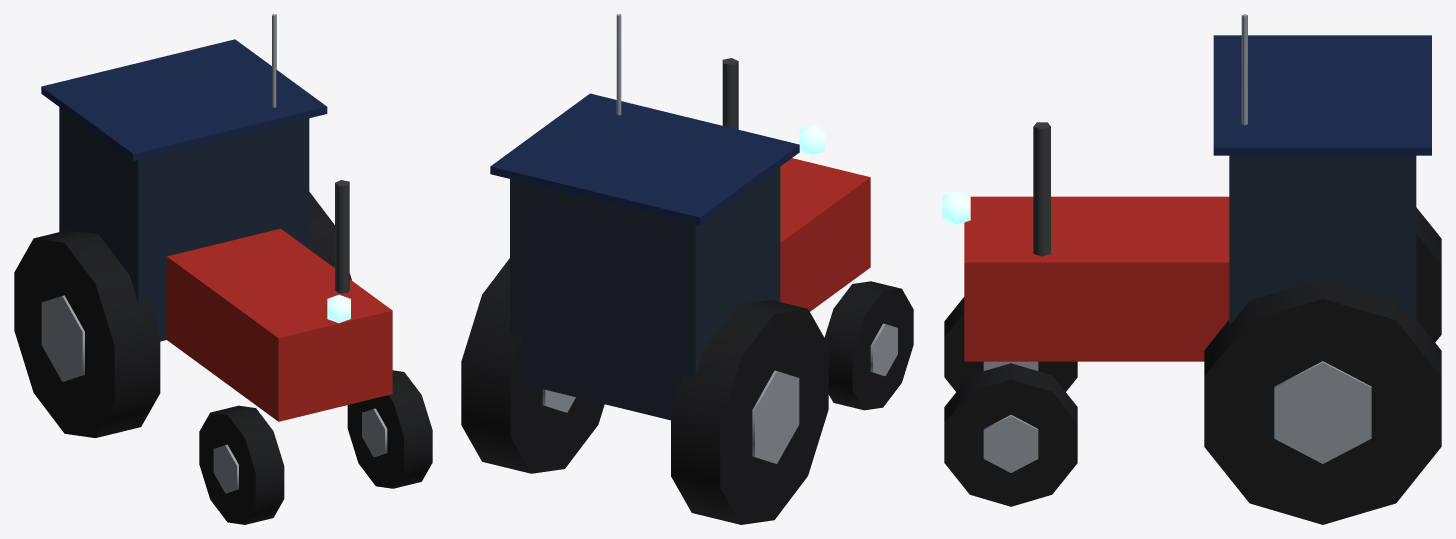
Rendered from veh_ground_tractor_a09.glb.
3 renders of one model, left to right at view 1: azimuth 30°, elevation 25°; view 2: azimuth 150°, elevation 25°; view 3: azimuth 270°, elevation 25°, orthographic. The views are drawn at different scales.
Parts seen in each view (by area): view 1: body, wheel_0, front_wheel_0, front_wheel_1, wheel_1; view 2: body, wheel_0, wheel_1, front_wheel_0; view 3: body, wheel_1, front_wheel_1, front_wheel_0, wheel_0.
Boxes of the visible parts, x1=… form: body: x1=41, y1=14, x2=392, y2=421; wheel_0: x1=14, y1=230, x2=160, y2=437; front_wheel_0: x1=199, y1=405, x2=284, y2=524; front_wheel_1: x1=347, y1=370, x2=432, y2=488; wheel_1: x1=309, y1=192, x2=351, y2=280; body: x1=490, y1=14, x2=870, y2=420; wheel_0: x1=671, y1=300, x2=828, y2=524; wheel_1: x1=461, y1=258, x2=604, y2=473; front_wheel_0: x1=824, y1=281, x2=913, y2=410; body: x1=942, y1=14, x2=1431, y2=361; wheel_1: x1=1204, y1=279, x2=1441, y2=524; front_wheel_1: x1=944, y1=363, x2=1077, y2=506; front_wheel_0: x1=944, y1=297, x2=1077, y2=391; wheel_0: x1=1416, y1=207, x2=1441, y2=342.
Size of what is drawn, in the model's own units: 2.14 by 3.35 by 3.2.
